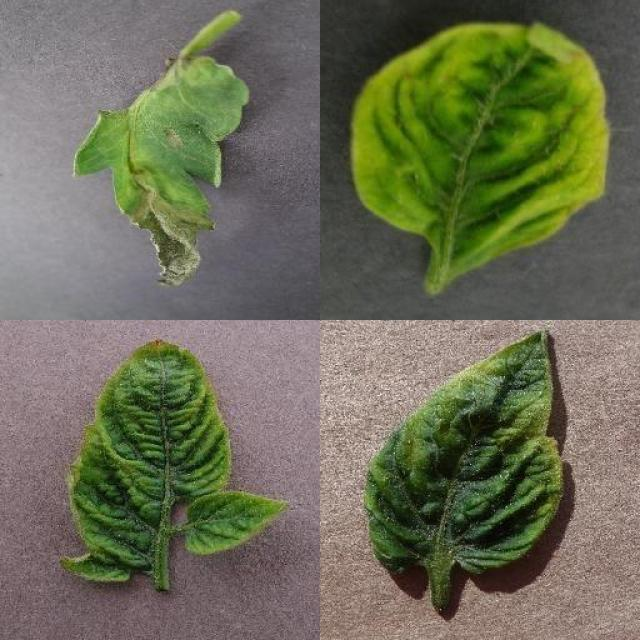Late Blight: (68, 55, 250, 287)
